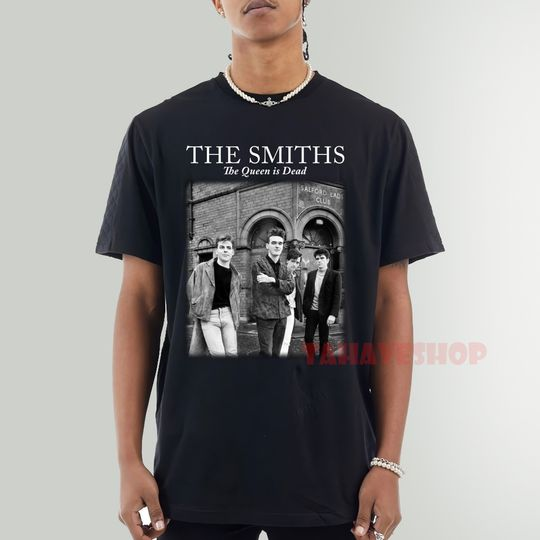design: (183, 141, 348, 358)
